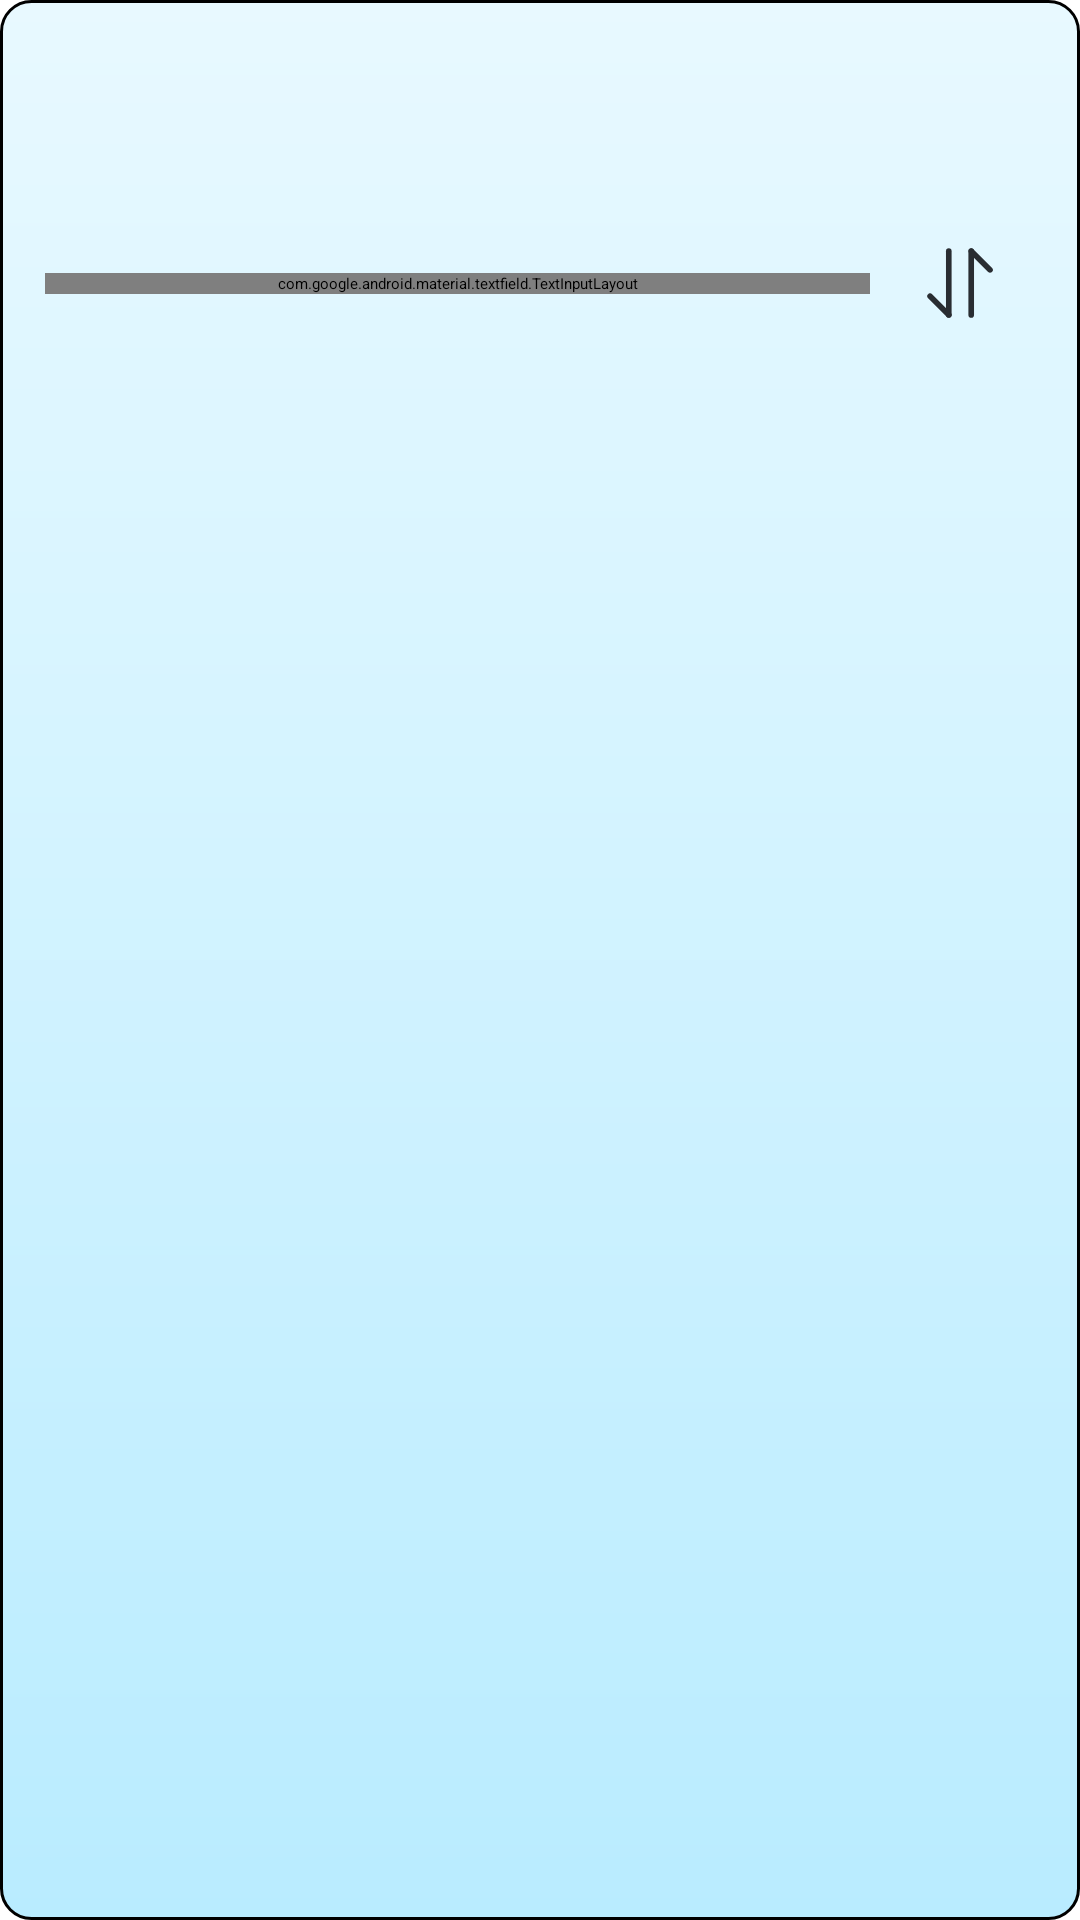

Icon bounding boxes for this 1080*1920 phone screenshot, format bbox=[x1, y1, x2, y2]:
swap: bbox=[927, 248, 993, 318]
